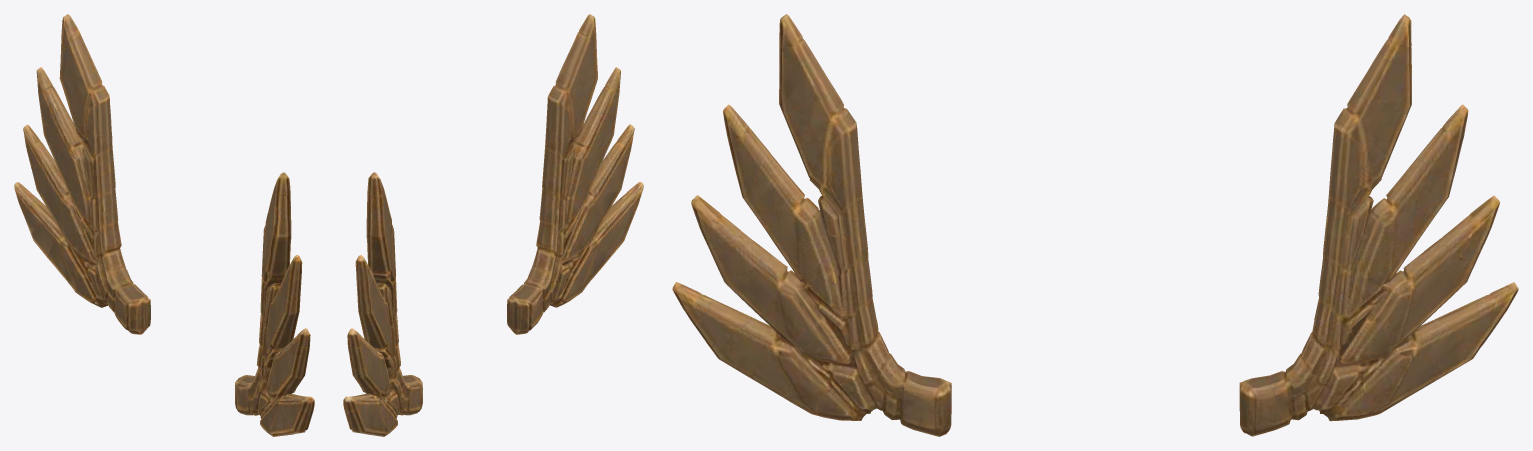
3 renders of one model, left to right at view 1: azimuth 30°, elevation 25°; view 2: azimuth 150°, elevation 25°; view 3: azimuth 270°, elevation 25°, orthographic. The views are drawn at different scales.
Visible parts, largest first — view 1: chassis; view 2: chassis; view 3: chassis.
Part boxes in pixels (x1,y1,x2,y2): chassis: (14, 14, 314, 436); chassis: (343, 14, 643, 436); chassis: (672, 14, 1518, 436).
Bounding box in the file's own units: 0.0844 × 0.4983 × 0.9398.
Materials: 1 (1 with a texture image).
